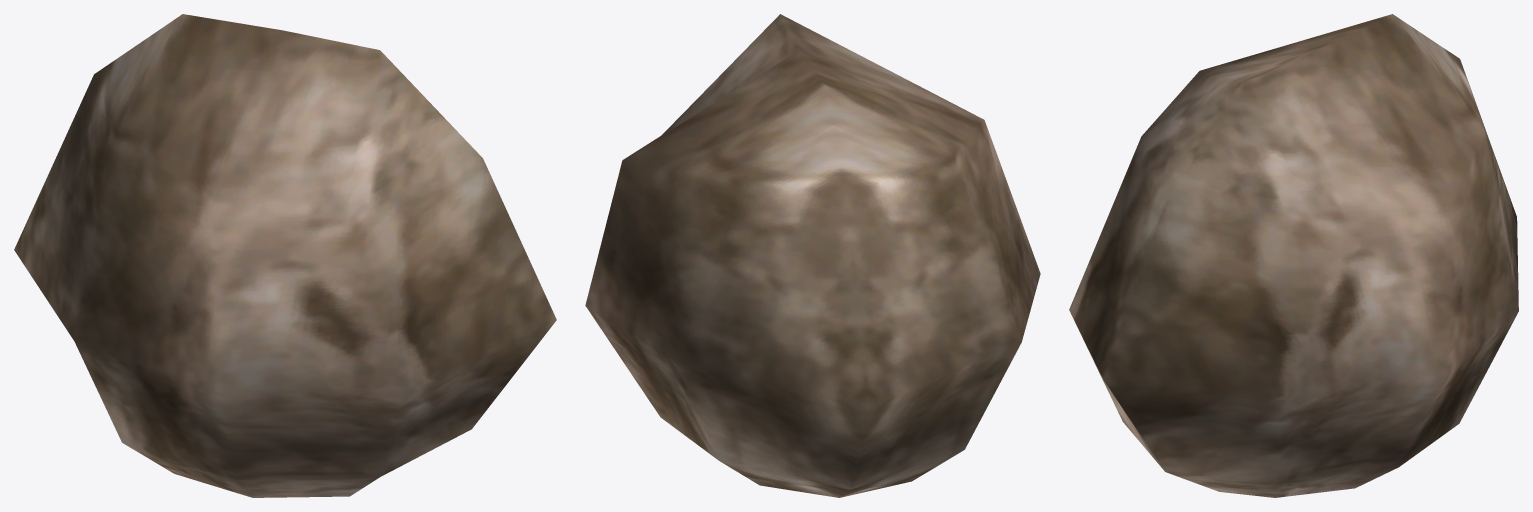
Rendered from OVERHILL_A_01_ROCK100.fbx.
The picture shows the model from 3 angles, left to right: view 1: azimuth 30°, elevation 25°; view 2: azimuth 150°, elevation 25°; view 3: azimuth 270°, elevation 25°; orthographic projection.
Parts seen in each view (by area): view 1: OVERHILL_A_01_ROCK100; view 2: OVERHILL_A_01_ROCK100; view 3: OVERHILL_A_01_ROCK100.
Part boxes in pixels (<box>): OVERHILL_A_01_ROCK100: <box>14,14,556,497</box>; OVERHILL_A_01_ROCK100: <box>585,14,1040,497</box>; OVERHILL_A_01_ROCK100: <box>1069,14,1518,497</box>.
Bounding box in the file's own units: 12369 × 11903 × 11624.
Materials: 1 (1 with a texture image).
